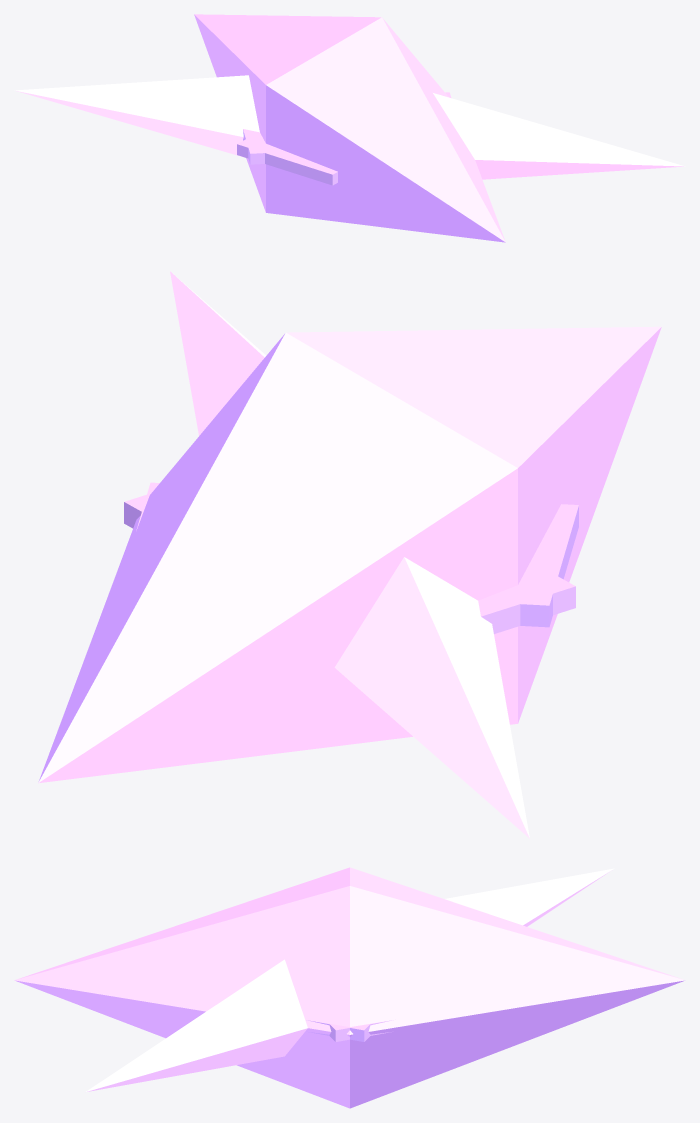
The model's file is phaser.glb.
3 renders of one model, top to bottom at view 1: azimuth 30°, elevation 25°; view 2: azimuth 150°, elevation 25°; view 3: azimuth 270°, elevation 25°, orthographic. The views are drawn at different scales.
Size of the model in its own units: 0.8202 by 0.3804 by 1.04.
